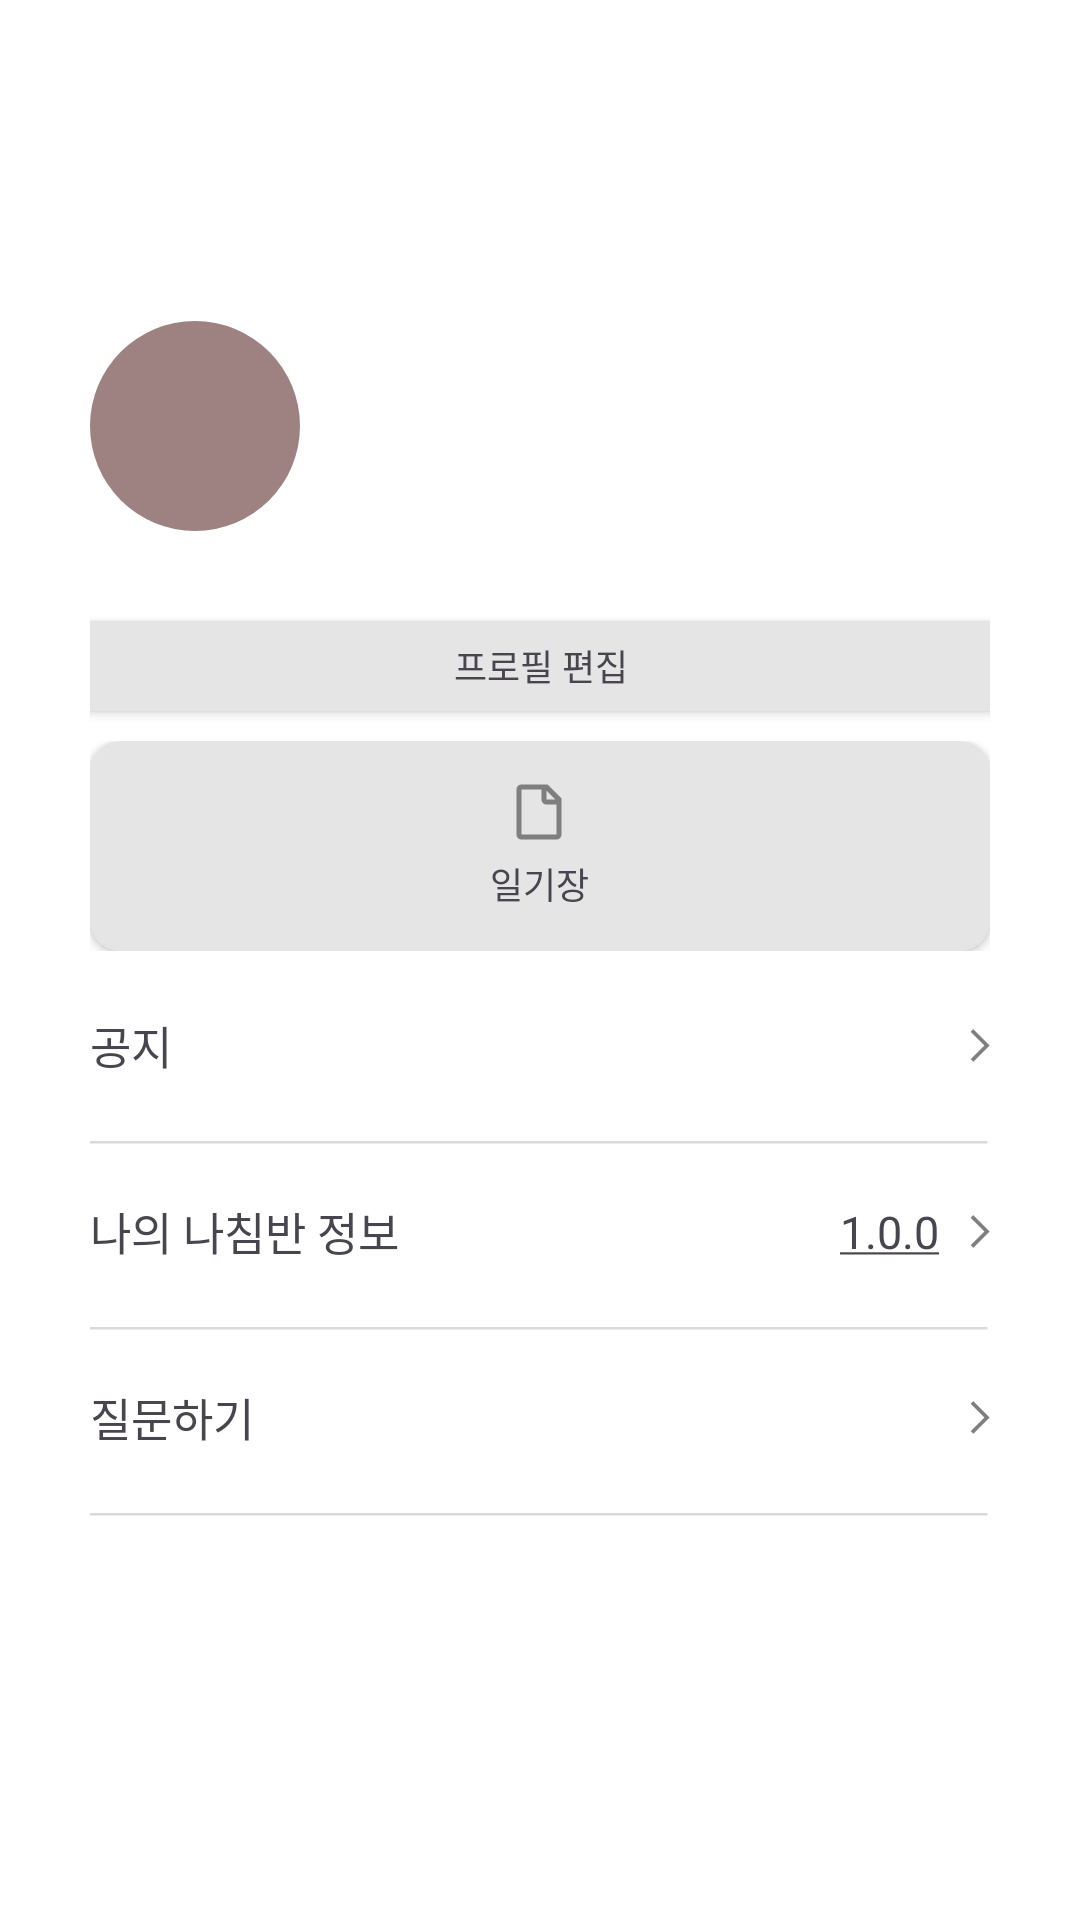

Where to tap for icons on this 1080 x 1920 app screen, as (x=x, y=y):
file: (x=539, y=812)
